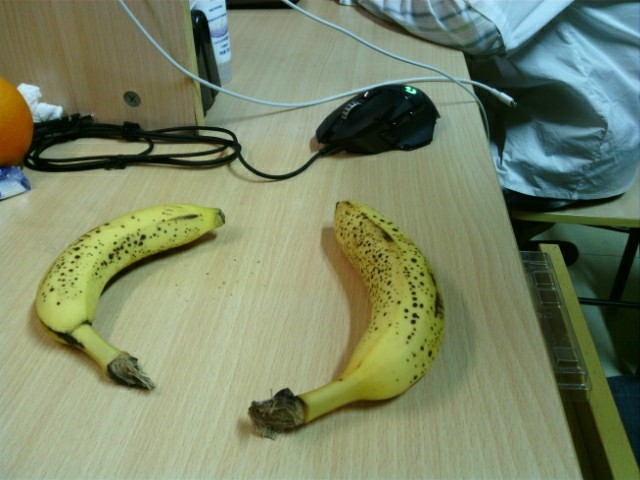normal_banana: (248, 200, 444, 435), (36, 204, 227, 394)
